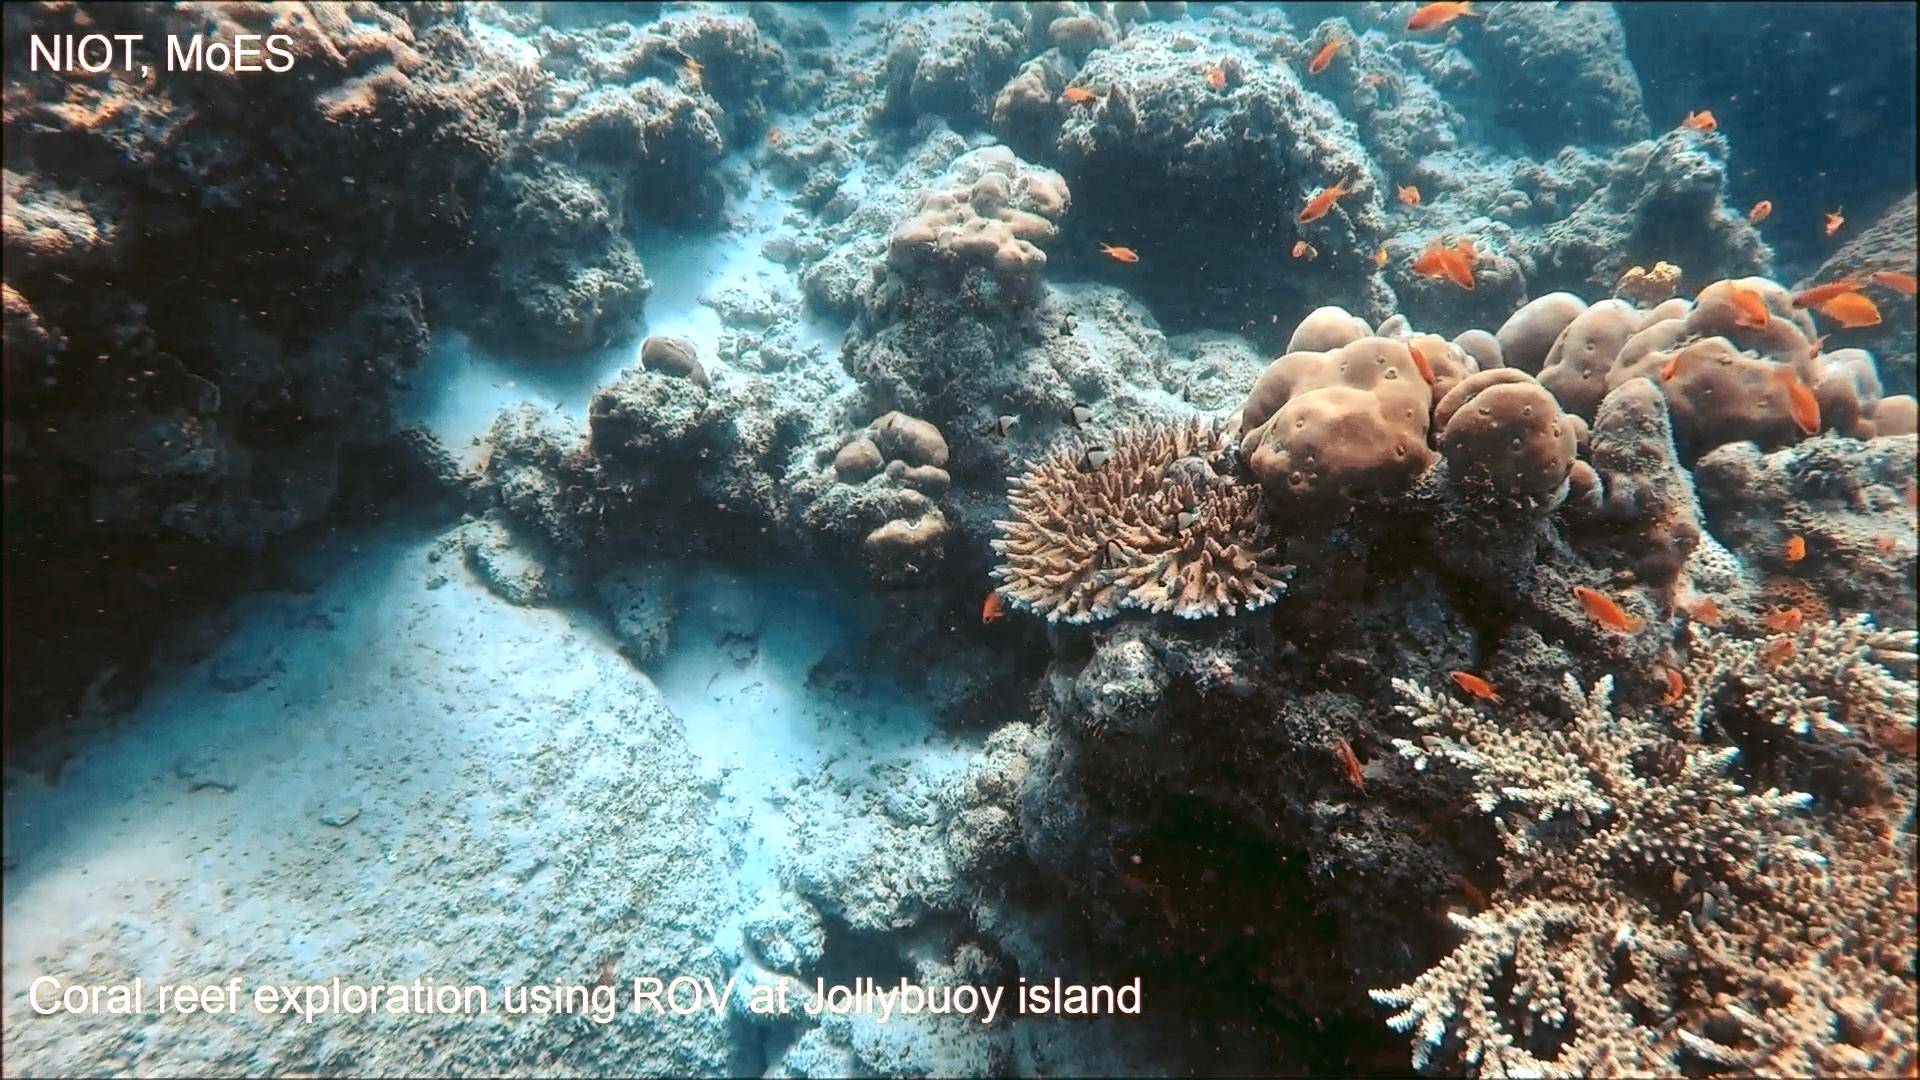Porites-Porites pukoensis: (1478, 270, 1920, 458), (1232, 301, 1580, 530)
